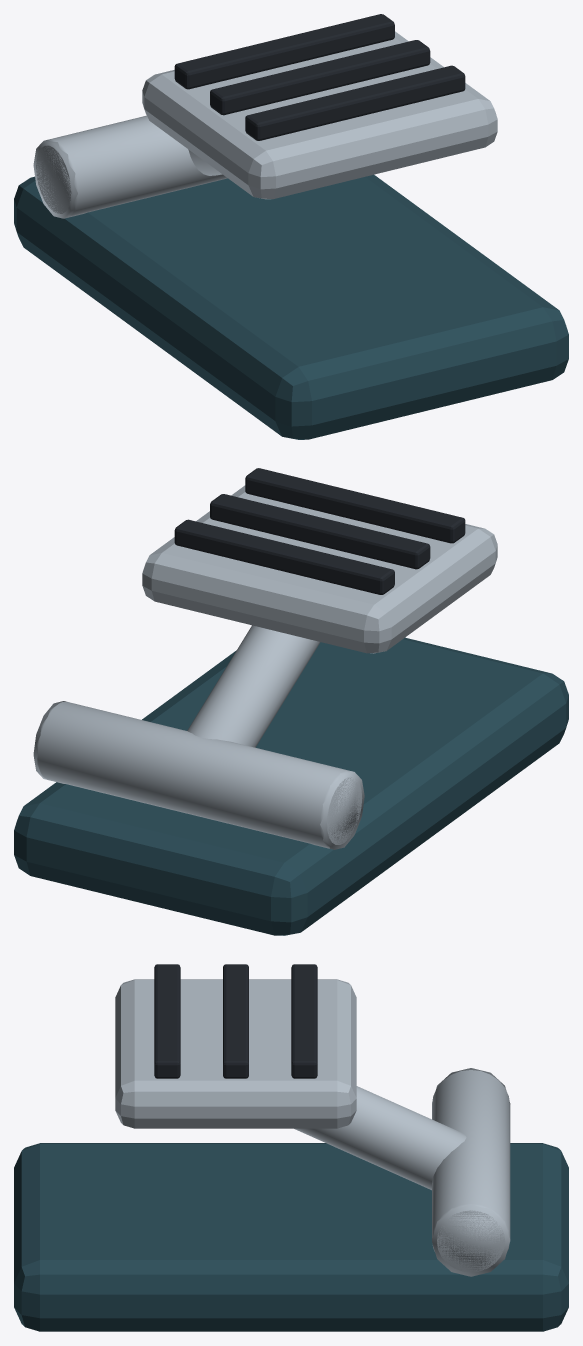
The model's file is pedal-single.glb.
3 renders of one model, top to bottom at view 1: azimuth 30°, elevation 25°; view 2: azimuth 150°, elevation 25°; view 3: azimuth 270°, elevation 25°, orthographic. The views are drawn at different scales.
Parts seen in each view (by area): view 1: floor_mount, foot_pad, hinge, tread.002, tread.001, tread, hinge.001; view 2: floor_mount, hinge, foot_pad, pedal_arm, tread.002, tread.001, tread, hinge.001; view 3: floor_mount, foot_pad, hinge, pedal_arm, hinge.001, tread, tread.002, tread.001.
Boxes of the visible parts, <box> form: floor_mount: <box>14,174,568,439</box>; foot_pad: <box>142,31,497,199</box>; hinge: <box>36,115,227,217</box>; tread.002: <box>245,65,465,140</box>; tread.001: <box>210,40,430,115</box>; tread: <box>174,14,394,89</box>; hinge.001: <box>33,139,77,218</box>; floor_mount: <box>14,637,568,935</box>; hinge: <box>36,702,362,848</box>; foot_pad: <box>142,485,497,653</box>; pedal_arm: <box>187,625,320,747</box>; tread.002: <box>245,468,465,543</box>; tread.001: <box>210,494,430,569</box>; tread: <box>174,519,394,594</box>; hinge.001: <box>33,701,364,849</box>; floor_mount: <box>14,1143,568,1331</box>; foot_pad: <box>115,979,356,1128</box>; hinge: <box>432,1070,510,1271</box>; pedal_arm: <box>294,1086,466,1190</box>; hinge.001: <box>432,1068,510,1276</box>; tread: <box>291,964,317,1078</box>; tread.002: <box>154,964,180,1078</box>; tread.001: <box>223,964,248,1078</box>.
Bounding box in the file's own units: 0.1 × 0.088 × 0.17.
